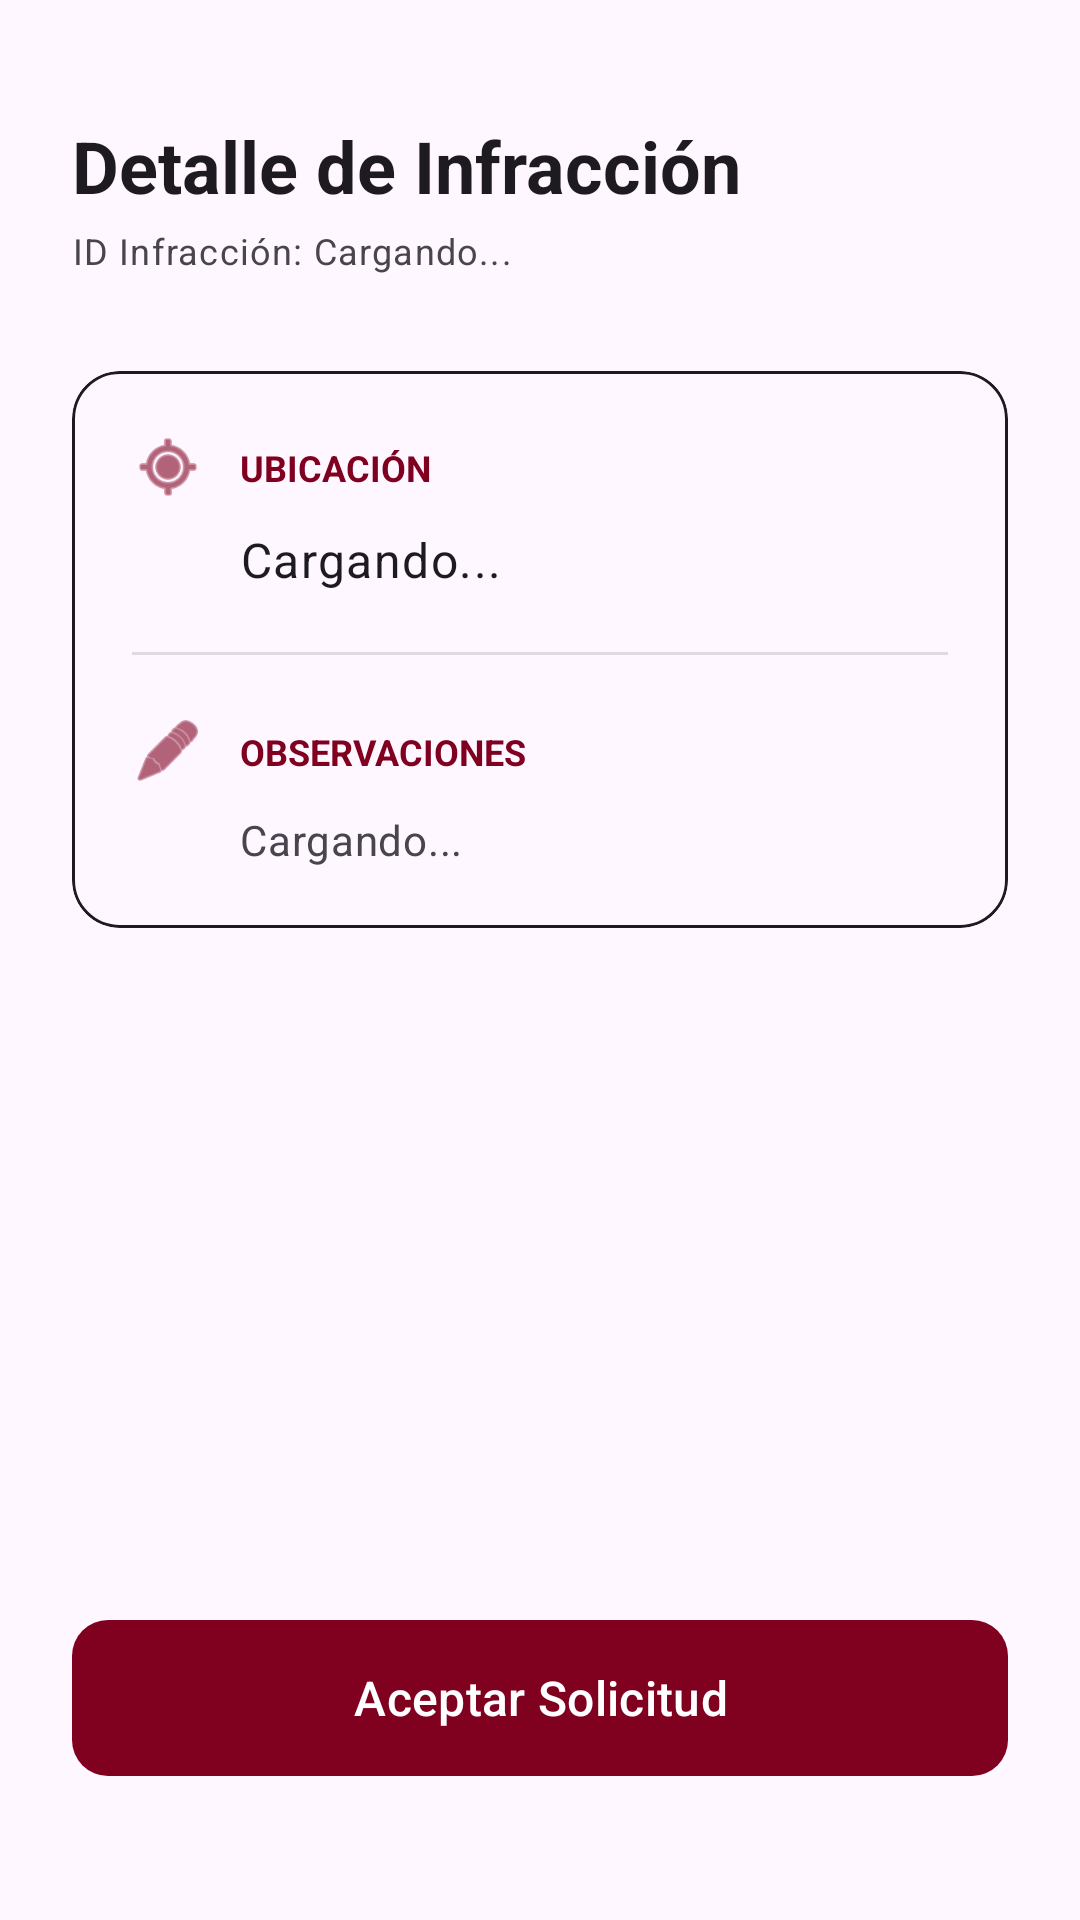

Icons on this 1080 x 1920 Android screen, each with the point to tap as (x,y):
edit: (167,750)
mylocation: (168,467)
